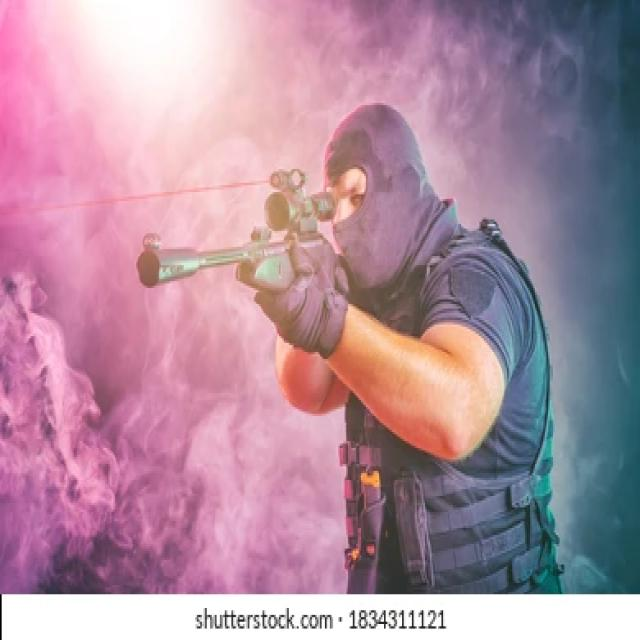soldier: (140, 103, 569, 594)
